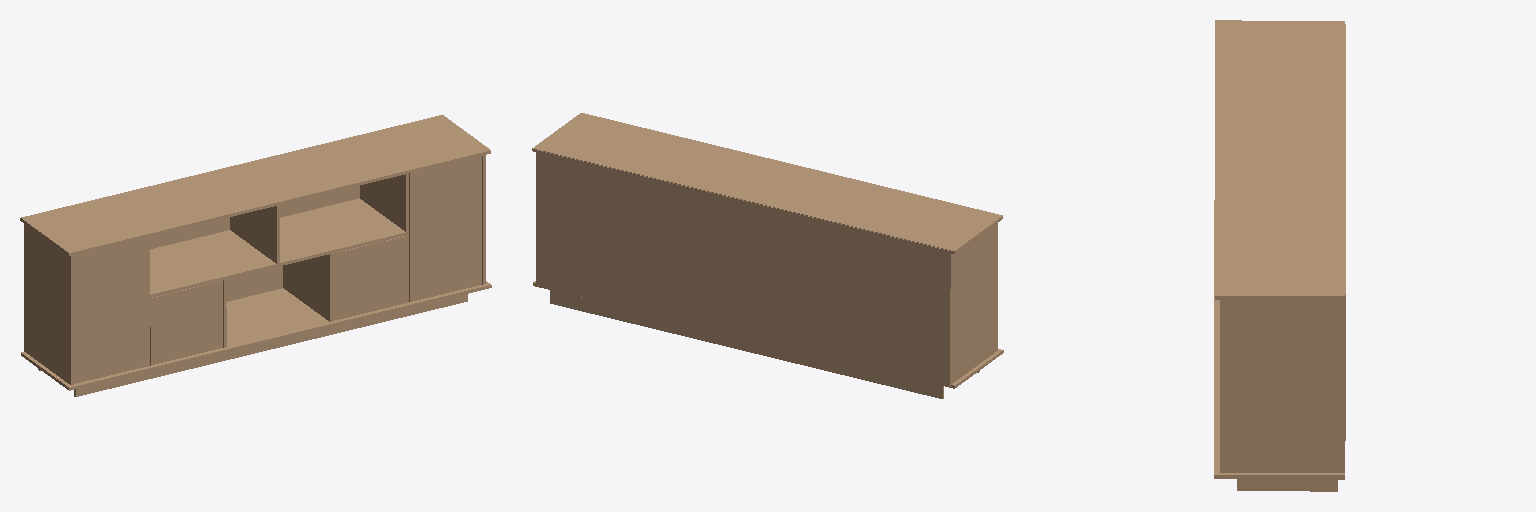
The robot description file, URDF, robot "tv_stand":
<?xml version="1.0"?>
<robot name="tv_stand">
<link name="tv_stand_base_link">
  <inertial>
    <mass value="0.0"/>
    <origin xyz="0 0 0" rpy="1.57 0 0"/>
    <inertia ixx="0.01" ixy="0" ixz="0" iyy="0.01" iyz="0" izz="0.01"/>
  </inertial>

  <visual>
    <origin xyz="0 0 0" rpy="1.57 0 0"/>
    <geometry>
      <mesh filename="package://meshes/tv_stand.dae" scale="1 1 1"/>
    </geometry>
    <material name="material_name">
      <color rgba="0.769 0.643 0.518 1.0"/>
    </material>
  </visual>

  <collision>
    <origin xyz="0 0 0" rpy="1.57 0 0"/>
    <geometry>
      <mesh filename="package://meshes/tv_stand.dae" scale="1 1 1"/> 
      
      </geometry>
  </collision>
</link>
</robot>

--- What the picture shows (computed from the rendered views, not written in the file) ---
3 views of the same robot in one strip: view 1: azimuth 30°, elevation 25°; view 2: azimuth 150°, elevation 25°; view 3: azimuth 270°, elevation 25° (orthographic).
Model tv_stand with 1 links and 0 joints (none), rooted at tv_stand_base_link, posed every joint at zero.
Links seen in each view (by area): view 1: tv_stand_base_link; view 2: tv_stand_base_link; view 3: tv_stand_base_link.
Link boxes in pixels (x1=…): tv_stand_base_link: x1=20, y1=115, x2=491, y2=396; tv_stand_base_link: x1=532, y1=113, x2=1003, y2=398; tv_stand_base_link: x1=1214, y1=20, x2=1345, y2=491.
Size in the robot's own frame: 2.3 by 0.4636 by 0.8003 metres.
1 mesh visuals loaded from 1 distinct referenced files (1 Collada DAE).
